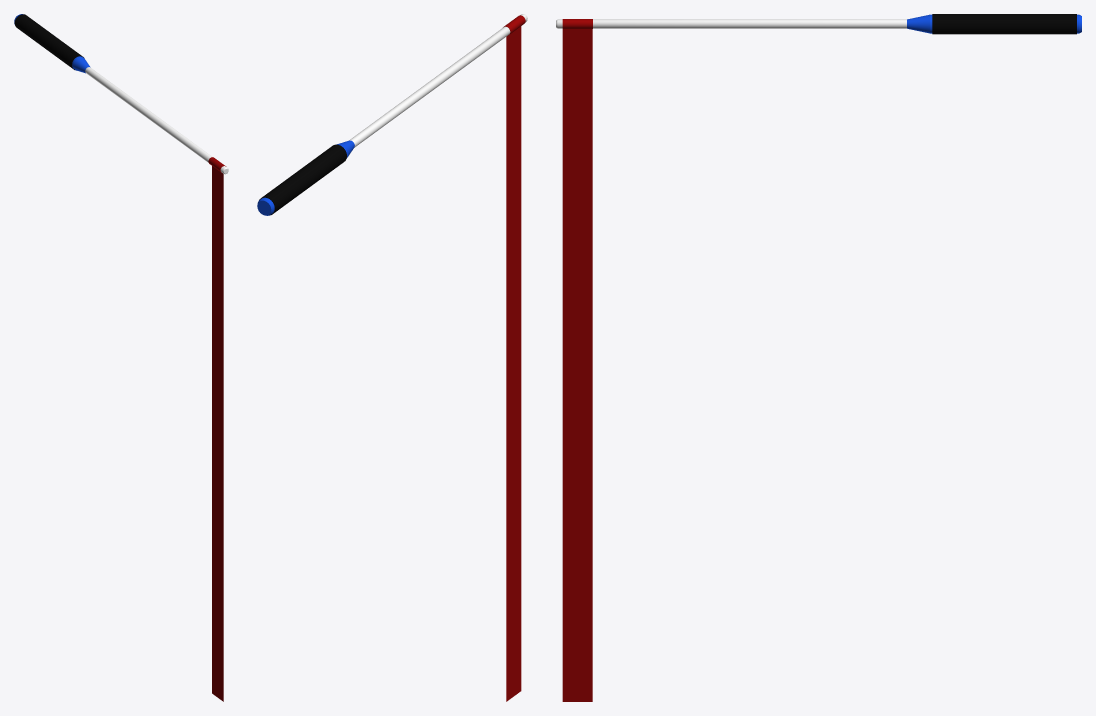
File: RibbonStick.fbx
3 views of the same model, side by side, from view 1: azimuth 30°, elevation 25°; view 2: azimuth 150°, elevation 25°; view 3: azimuth 270°, elevation 25° (orthographic). The views are drawn at different scales.
Parts seen in each view (by area): view 1: Ribbon, Wand; view 2: Ribbon, Wand; view 3: Ribbon, Wand.
Boxes of the visible parts, x1,y1,x2,y2 form: Ribbon: (212, 166, 223, 701); Wand: (14, 14, 228, 174); Ribbon: (506, 26, 521, 701); Wand: (257, 14, 527, 215); Ribbon: (562, 29, 592, 701); Wand: (556, 14, 1081, 34).
Bounding box in the file's own units: 2.72 × 102 × 70.41.
